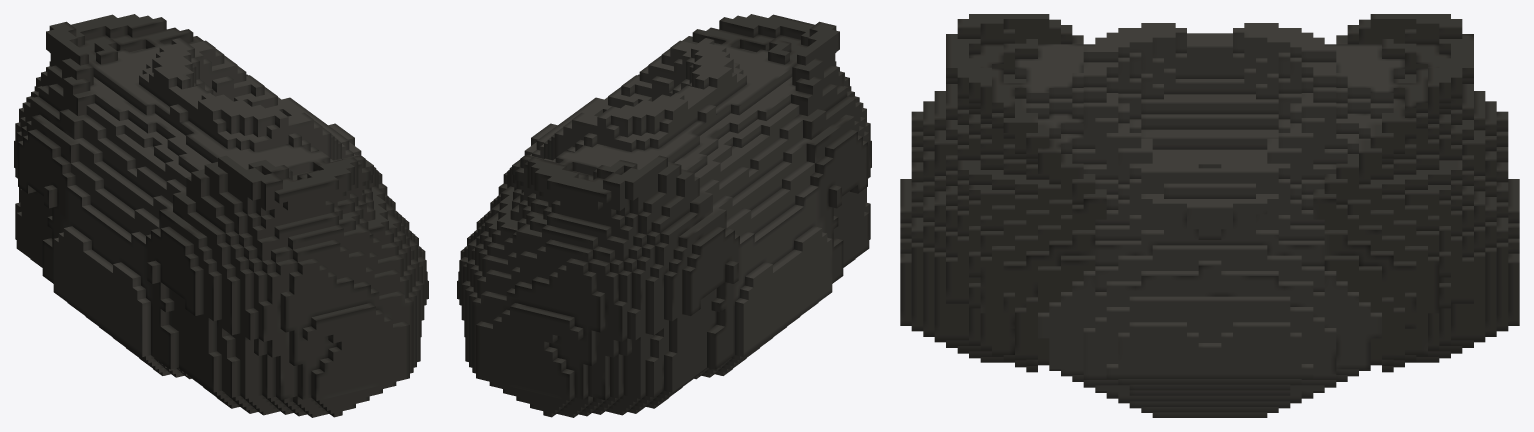
The model's file is Armor_Milan_M.obj.
3 renders of one model, left to right at view 1: azimuth 30°, elevation 25°; view 2: azimuth 150°, elevation 25°; view 3: azimuth 270°, elevation 25°, orthographic. The views are drawn at different scales.
Visible parts, largest first — view 1: Armor_Milan_M; view 2: Armor_Milan_M; view 3: Armor_Milan_M.
Part boxes in pixels (<box>): Armor_Milan_M: <box>14,14,428,417</box>; Armor_Milan_M: <box>457,14,871,417</box>; Armor_Milan_M: <box>900,14,1519,417</box>.
Bounding box in the file's own units: 32 × 31 × 54.
